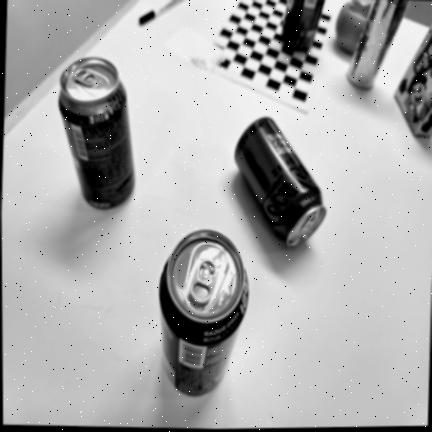can_coke_decaf: (59, 58, 134, 209)
can_coke_zero: (235, 118, 325, 247)
can_pepsi: (281, 0, 325, 51)
can_pepsi_zero: (159, 229, 249, 396)
